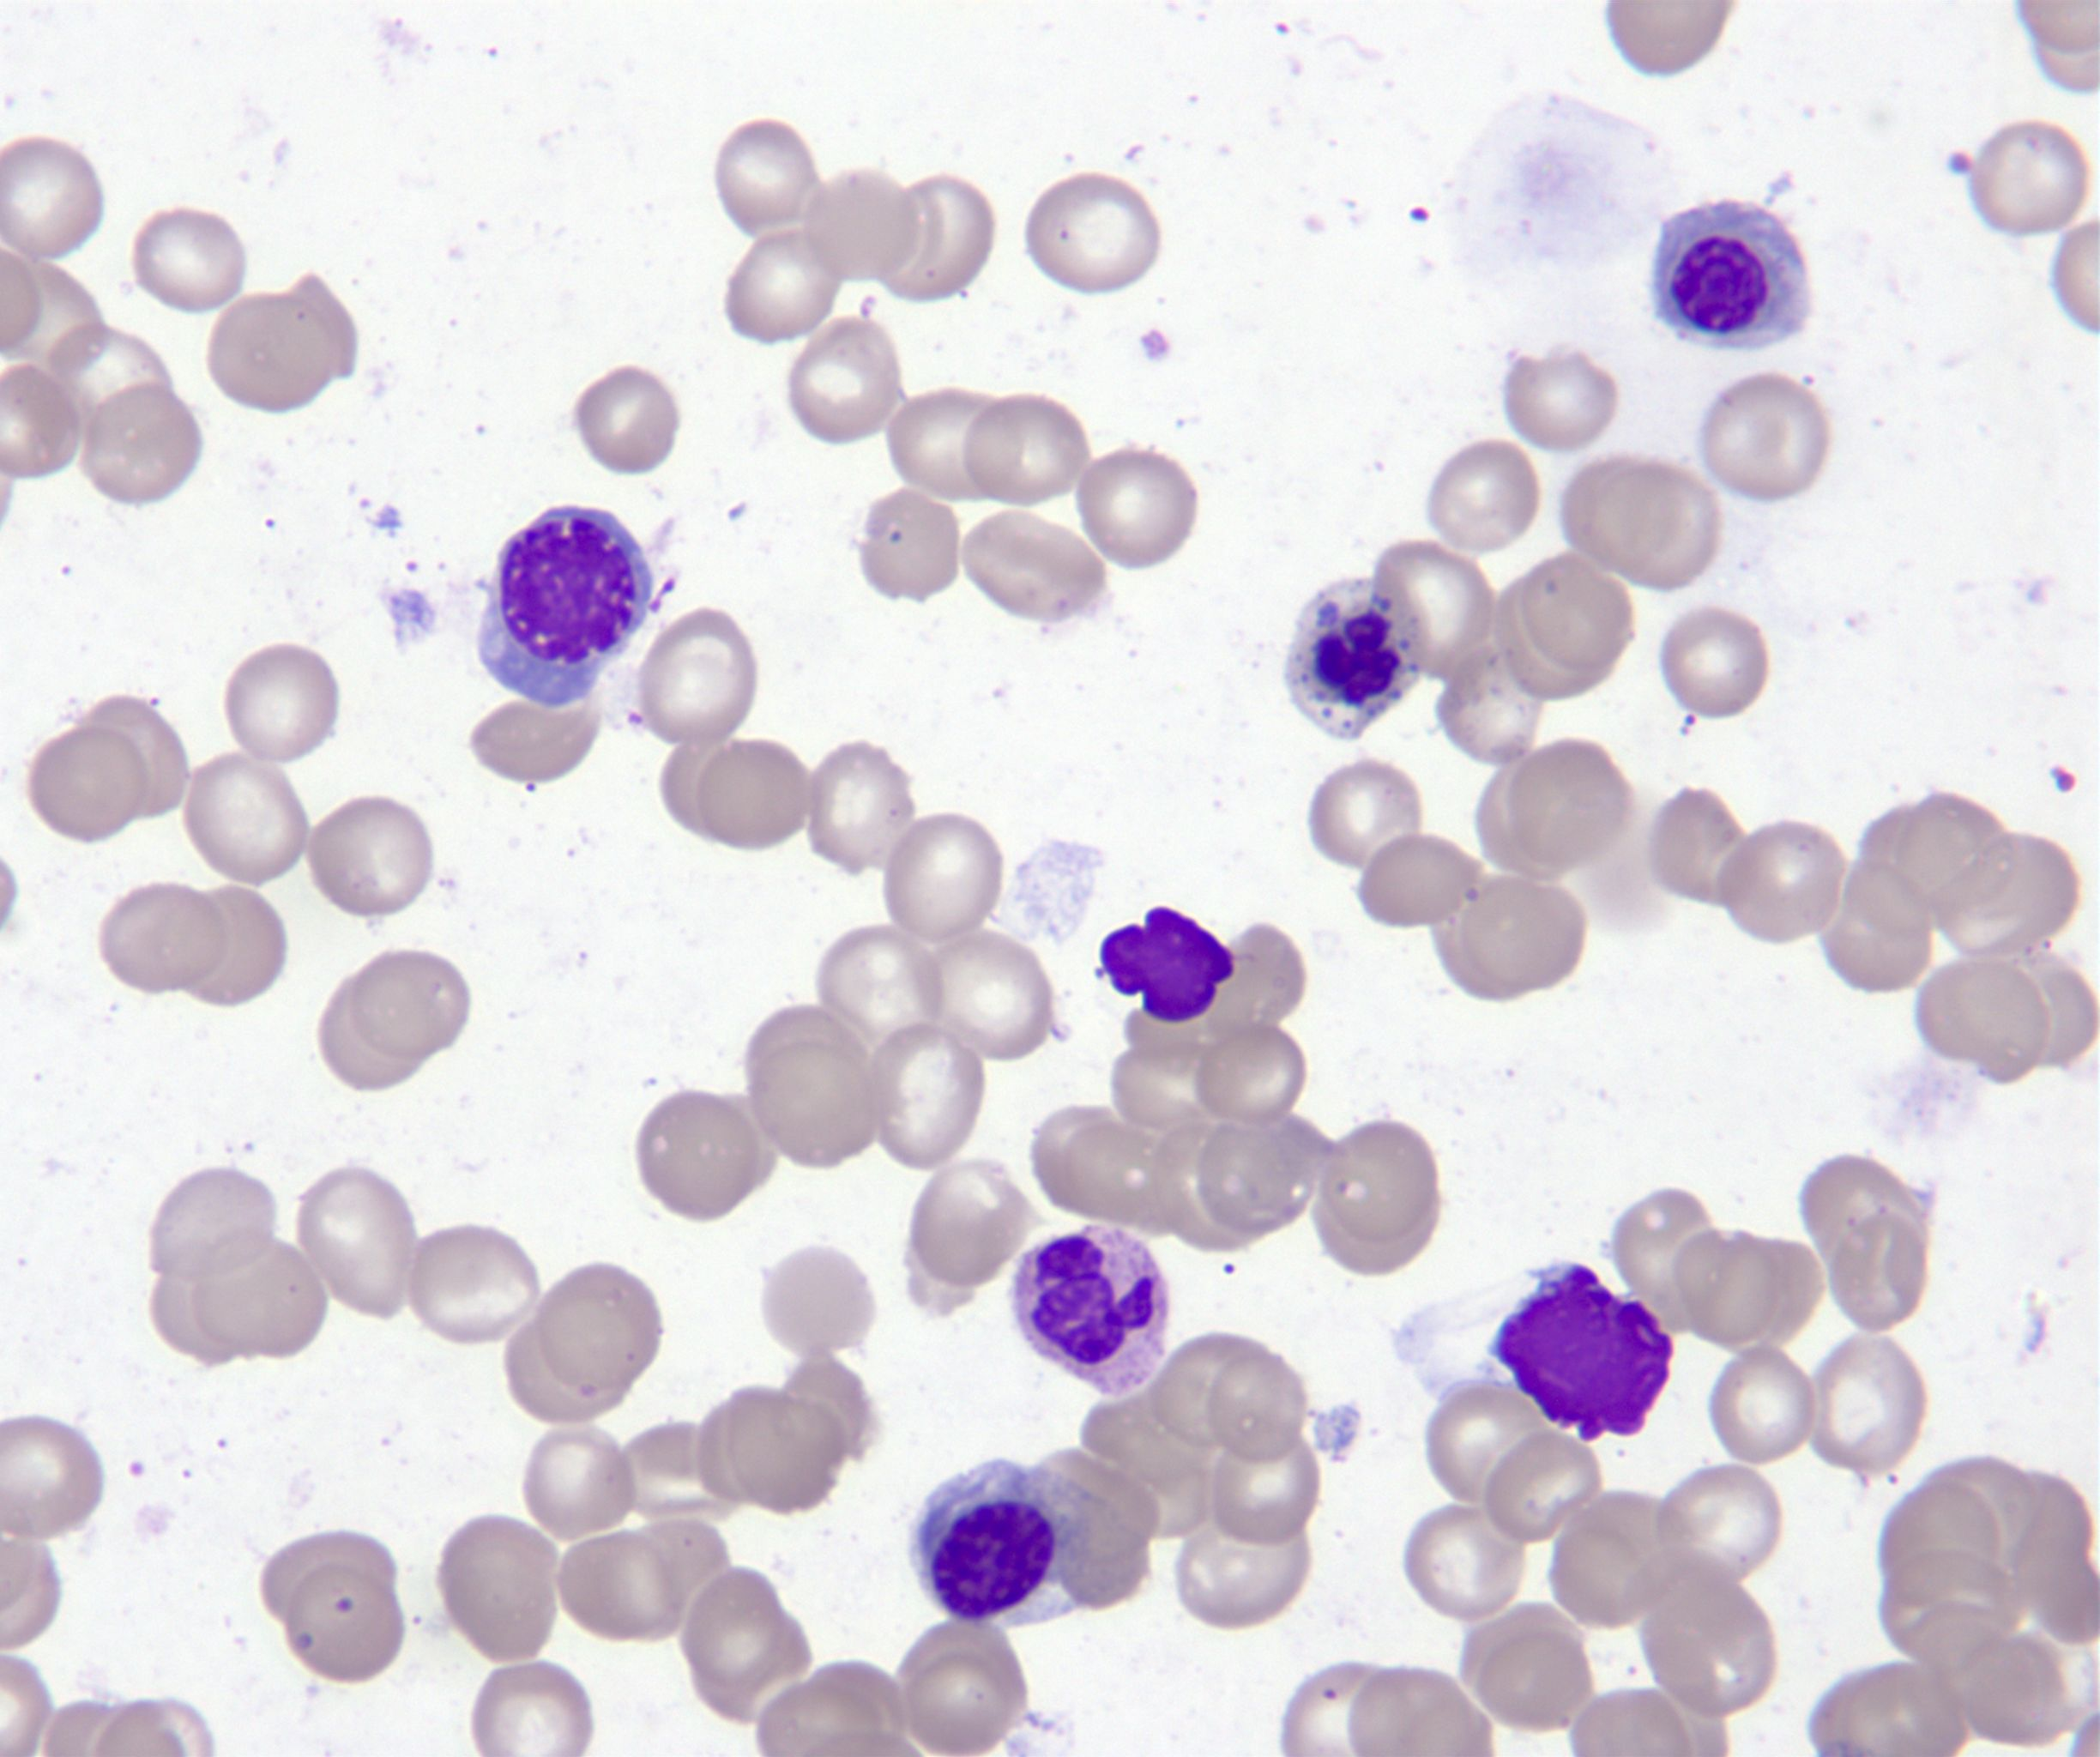23: (478, 504, 652, 710)
24: (910, 1457, 1146, 1631), (1653, 201, 1809, 351), (1285, 579, 1422, 742)
6: (1010, 1225, 1170, 1398)
x: (1491, 1265, 1673, 1445), (1094, 906, 1235, 1022)
